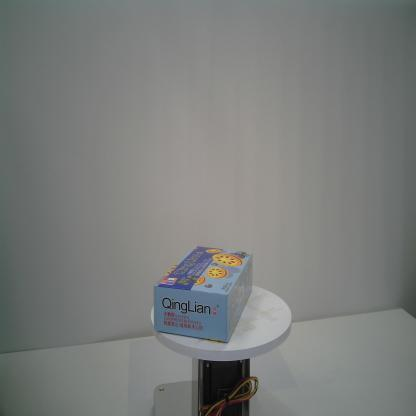Dessert: (153, 245, 253, 344)
